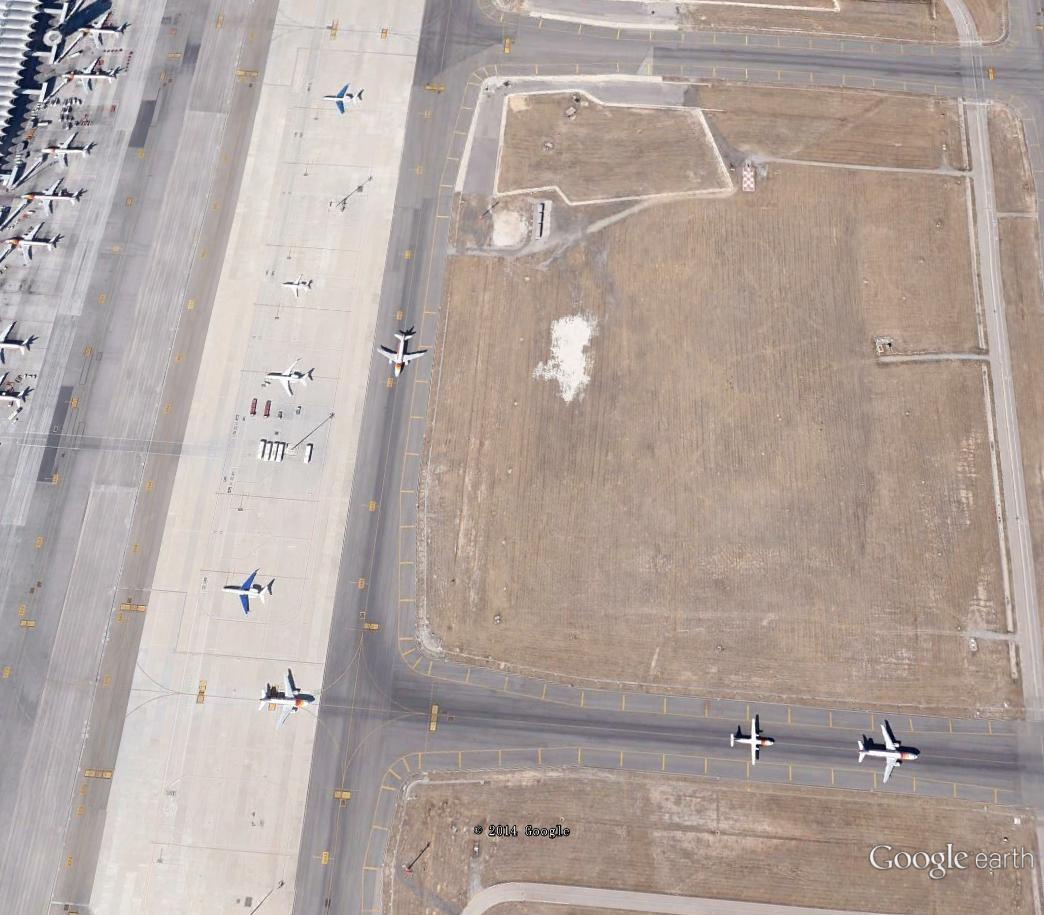aircraft: (852, 718, 927, 789), (256, 667, 315, 736), (18, 172, 88, 223), (372, 327, 432, 385), (58, 52, 123, 102), (219, 565, 274, 624), (72, 6, 135, 57), (727, 712, 778, 771), (3, 220, 61, 271), (36, 126, 97, 174), (259, 357, 315, 403), (0, 318, 37, 370), (322, 82, 366, 120), (1, 367, 33, 418), (280, 271, 315, 306)
